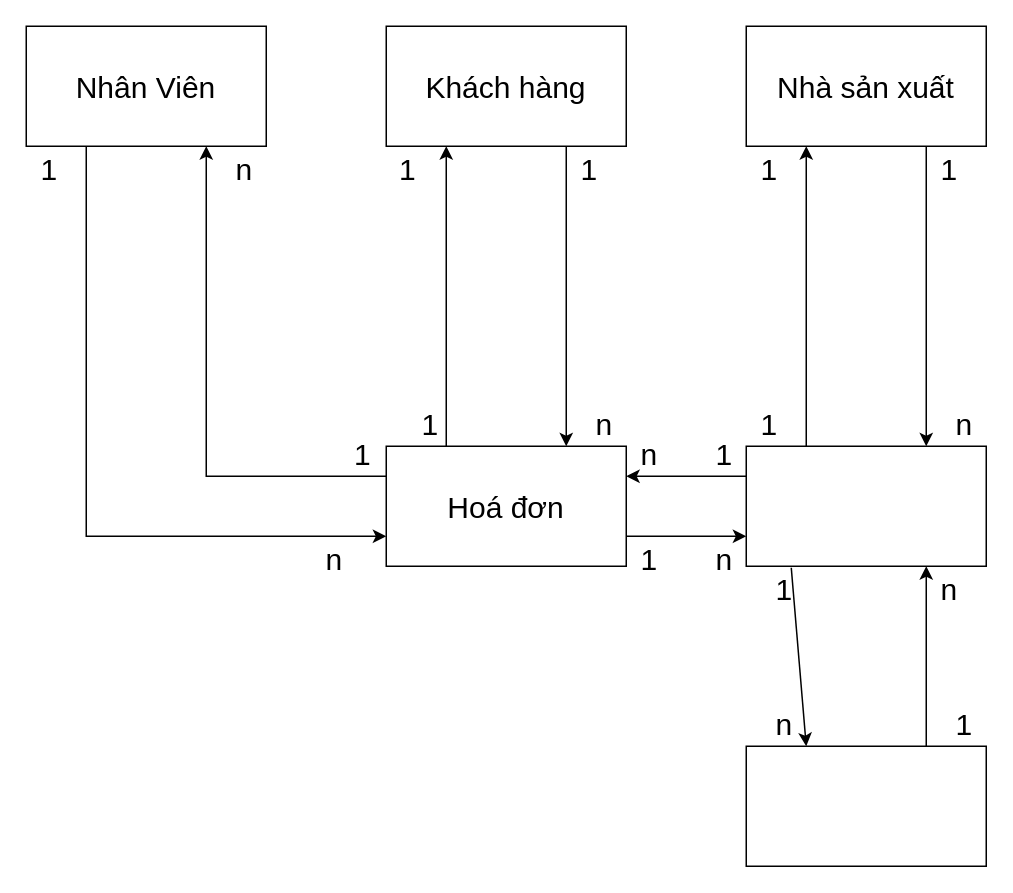
Some shapes in this 1013 by 893 pixel diagram are drawn without their labels. Here are the shapes that lost their labels. From the top down, the box of each, then its label:
(745, 445, 986, 566): Sản phẩm
(745, 745, 986, 866): Thể loại
